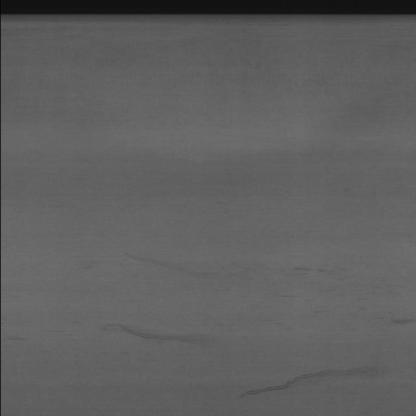water_spot: (232, 356, 388, 401), (101, 318, 208, 352)
